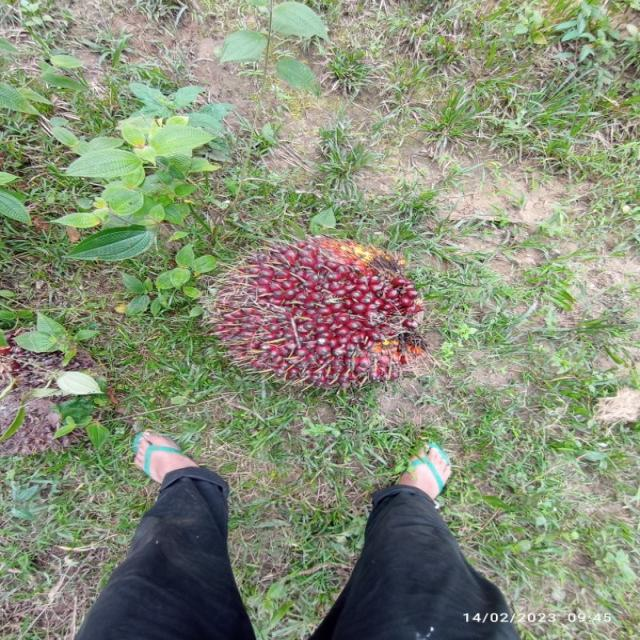fraksi 1: (173, 210, 480, 466)
